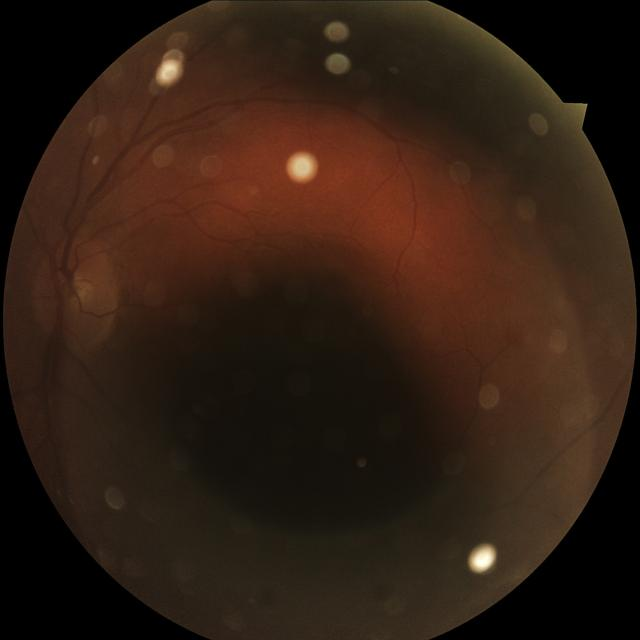OC: (62, 274, 93, 306)
OD: (28, 240, 118, 352)
